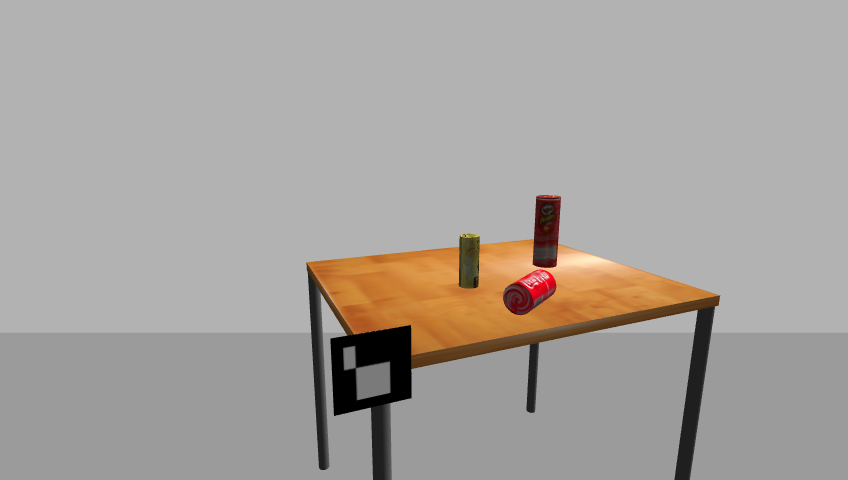aruco marker: (325, 324, 417, 417)
biscuits pack: (457, 233, 482, 290)
coke can: (502, 269, 558, 315)
dinner table: (299, 238, 730, 478)
pringles can: (532, 195, 563, 271)
